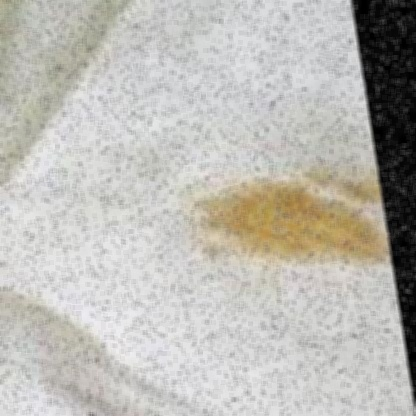coffee: (208, 173, 392, 276)
